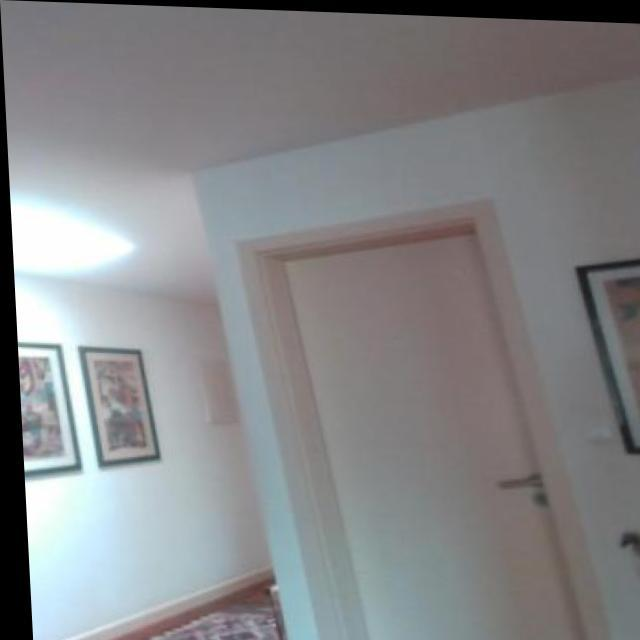door_handle: (482, 465, 548, 498)
